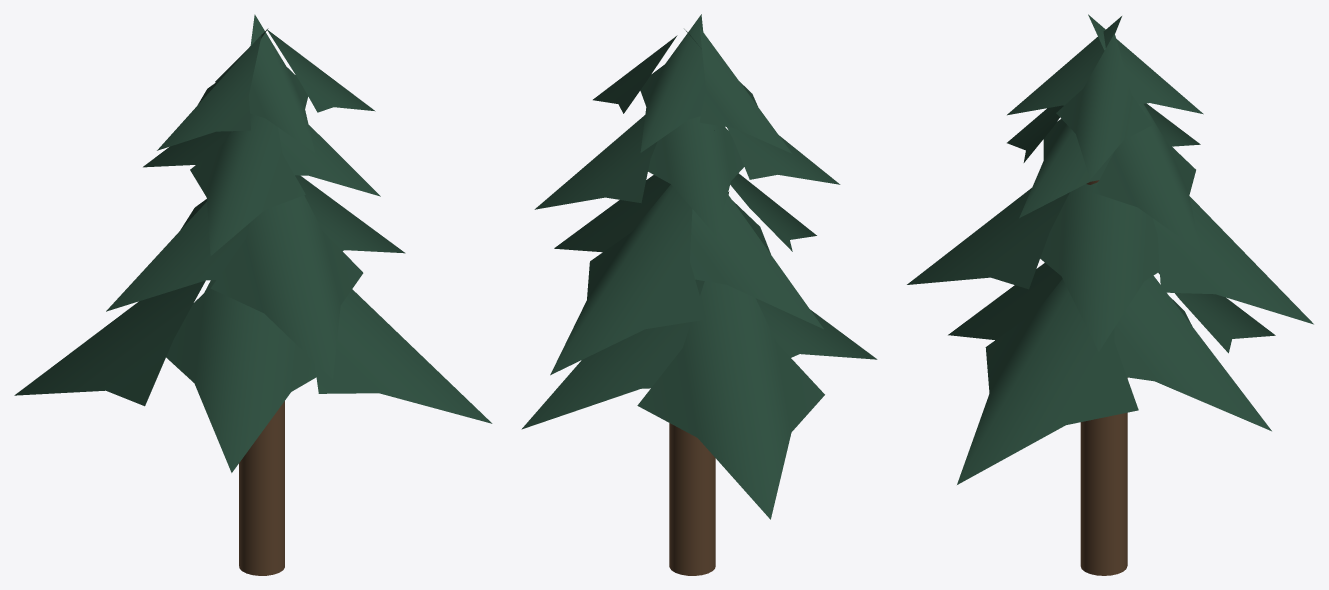
Rendered from Tree.glb.
3 renders of one model, left to right at view 1: azimuth 30°, elevation 25°; view 2: azimuth 150°, elevation 25°; view 3: azimuth 270°, elevation 25°, orthographic.
Visible parts, largest first — view 1: pasted__pasted__pasted__pasted__pPlane1 (×3), pasted__pasted__pasted__pPlane1 (×2), pasted__pasted__pasted__pasted__pasted__pPlane1, pasted__pasted__pPlane1 (×3), pCylinder1, pasted__pPlane1 (×2), pPlane1; view 2: pasted__pasted__pasted__pPlane1 (×4), pasted__pasted__pasted__pasted__pPlane1 (×3), pasted__pasted__pPlane1 (×4), pasted__pPlane1 (×2), pCylinder1; view 3: pasted__pasted__pPlane1 (×3), pasted__pasted__pasted__pPlane1 (×3), pasted__pasted__pasted__pasted__pasted__pPlane1, pasted__pasted__pasted__pasted__pPlane1 (×3), pasted__pPlane1 (×3), pCylinder1, pPlane1.
Part boxes in pixels (x1=…): pasted__pasted__pasted__pasted__pPlane1 (×3): x1=14, y1=195, x2=363, y2=472; pasted__pasted__pasted__pPlane1 (×2): x1=106, y1=113, x2=305, y2=311; pasted__pasted__pasted__pasted__pasted__pPlane1: x1=314, y1=289, x2=492, y2=423; pasted__pasted__pPlane1 (×3): x1=143, y1=34, x2=405, y2=253; pCylinder1: x1=239, y1=401, x2=284, y2=575; pasted__pPlane1 (×2): x1=240, y1=30, x2=380, y2=196; pPlane1: x1=248, y1=14, x2=314, y2=152; pasted__pasted__pasted__pPlane1 (×4): x1=521, y1=127, x2=840, y2=429; pasted__pasted__pasted__pasted__pPlane1 (×3): x1=637, y1=173, x2=877, y2=519; pasted__pasted__pPlane1 (×4): x1=534, y1=27, x2=792, y2=252; pasted__pPlane1 (×2): x1=593, y1=14, x2=705, y2=152; pCylinder1: x1=669, y1=423, x2=715, y2=575; pasted__pasted__pPlane1 (×3): x1=1040, y1=103, x2=1200, y2=351; pasted__pasted__pasted__pPlane1 (×3): x1=1007, y1=105, x2=1313, y2=431; pasted__pasted__pasted__pasted__pasted__pPlane1: x1=957, y1=279, x2=1138, y2=484; pasted__pasted__pasted__pasted__pPlane1 (×3): x1=907, y1=188, x2=1275, y2=353; pasted__pPlane1 (×3): x1=1019, y1=14, x2=1203, y2=218; pCylinder1: x1=1080, y1=180, x2=1127, y2=575; pPlane1: x1=1007, y1=16, x2=1121, y2=115.
Size of the model in its own units: 0.2184 by 0.3543 by 0.2377.
